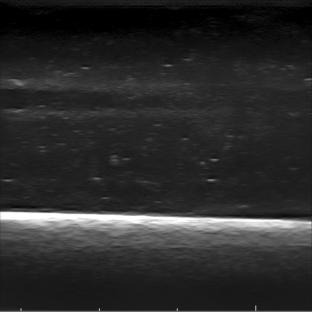vessel: (0, 73, 137, 121)
